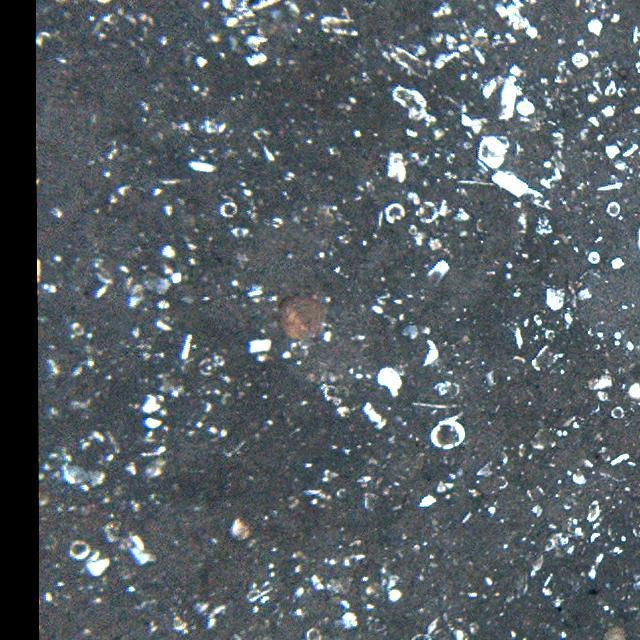scallop: (281, 289, 330, 343)
